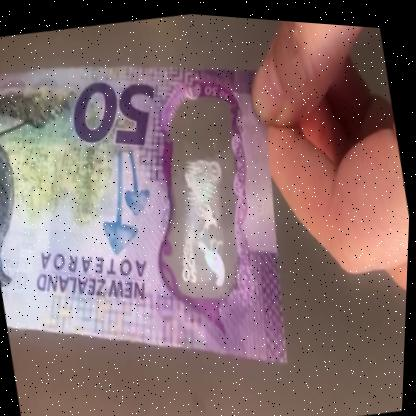50B: (156, 106, 257, 296)
